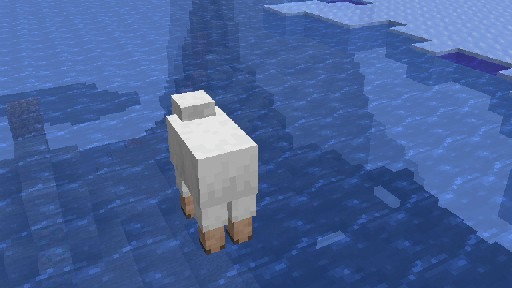sheep: (165, 89, 257, 255)
